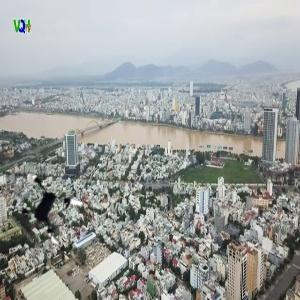drone: (15, 171, 92, 248)
